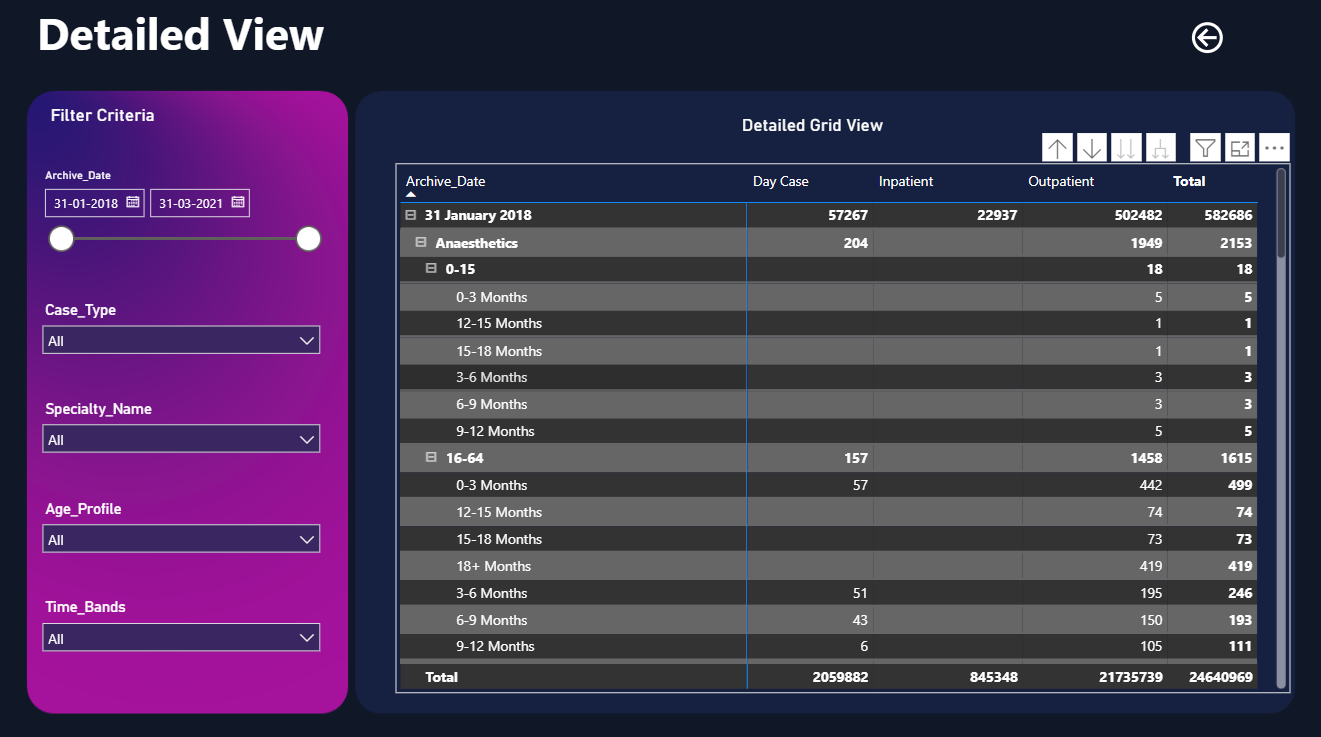

This screenshot's page, from the dashboard's own definition file:
{"tool":"powerbi","page":{"name":"Detail","canvas":[1280,720],"ordinal":1},"visuals":[{"type":"slicer","fields":{"Values":["All_Data.Archive_Date"]},"box":[32,160,288,112],"z":0},{"type":"slicer","fields":{"Values":["All_Data.Case_Type"]},"box":[32,288,288,80],"z":1000},{"type":"slicer","fields":{"Values":["All_Data.Specialty_Name"]},"box":[32,384,288,80],"z":2000},{"type":"textbox","box":[32,0,320,80],"z":3000},{"type":"slicer","fields":{"Values":["All_Data.Age_Profile"]},"box":[32,480,288,80],"z":4000},{"type":"slicer","fields":{"Values":["All_Data.Time_Bands"]},"box":[32,576,288,80],"z":5000},{"type":"pivotTable","fields":{"Rows":["All_Data.Archive_Date","All_Data.Specialty_Name","All_Data.Age_Profile","All_Data.Time_Bands"],"Columns":["All_Data.Case_Type"],"Values":["Sum(All_Data.Total)"]},"box":[384,160,864,512],"z":6000},{"type":"textbox","box":[45.8,98.9,130.3,50.7],"z":7000},{"type":"textbox","box":[713,108.6,152,41],"z":8000},{"type":"actionButton","box":[1147.3,19.3,100.1,39.8],"z":9000}]}

Visuals, with their boxes in screenshot pixels (x1, y1, x2, y2), scaled from the page's 1280x720 canvas onto the 1321x737 screenshot:
slicer - All_Data.Archive_Date: bbox=(33, 164, 330, 278)
slicer - All_Data.Case_Type: bbox=(33, 295, 330, 377)
slicer - All_Data.Specialty_Name: bbox=(33, 393, 330, 475)
textbox: bbox=(33, 0, 363, 82)
slicer - All_Data.Age_Profile: bbox=(33, 491, 330, 573)
slicer - All_Data.Time_Bands: bbox=(33, 590, 330, 671)
pivotTable - All_Data.Archive_Date x All_Data.Specialty_Name: bbox=(396, 164, 1288, 688)
textbox: bbox=(47, 101, 182, 153)
textbox: bbox=(736, 111, 893, 153)
actionButton: bbox=(1184, 20, 1287, 60)
